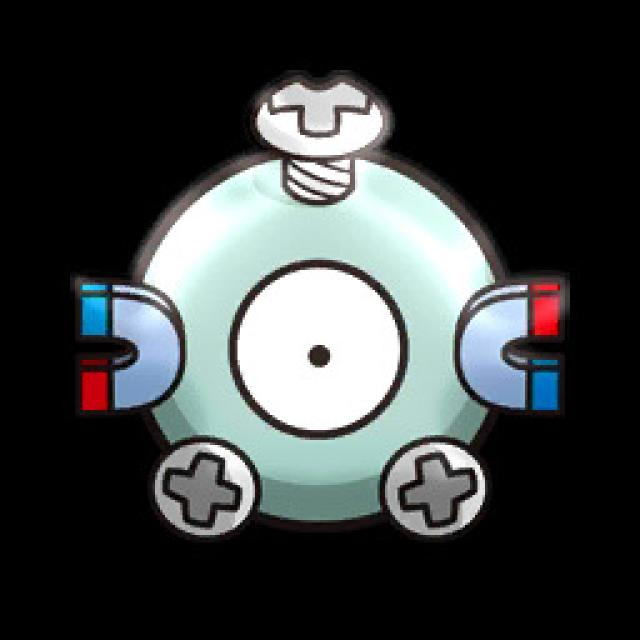Magnemite: (75, 82, 568, 540)
